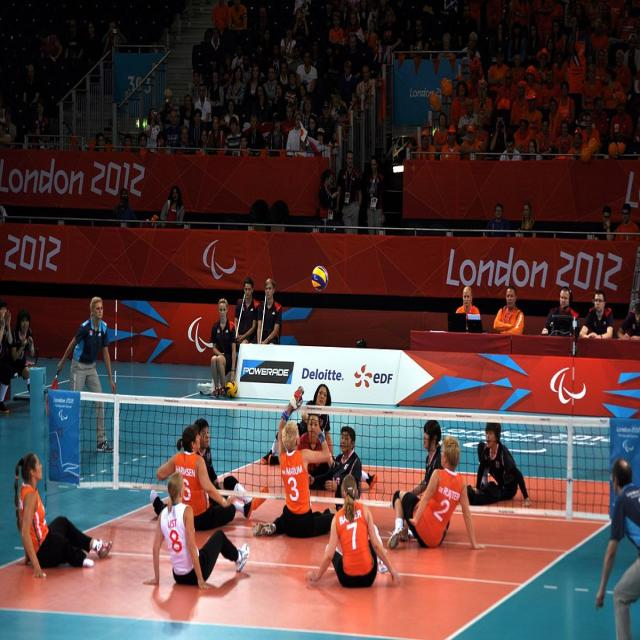body: (140, 470, 252, 592), (252, 385, 336, 541), (14, 450, 114, 580), (386, 433, 490, 551), (305, 473, 402, 590), (53, 295, 119, 455), (592, 455, 640, 639), (156, 425, 237, 530), (194, 418, 269, 520), (250, 0, 336, 77), (560, 0, 640, 73), (466, 422, 532, 509), (356, 0, 479, 45), (308, 425, 363, 515), (403, 418, 444, 529), (33, 15, 98, 62), (255, 275, 283, 380), (210, 297, 237, 399), (301, 382, 334, 457), (335, 148, 363, 234), (296, 412, 332, 475), (10, 308, 36, 394), (483, 0, 561, 28), (491, 65, 522, 135), (544, 284, 582, 336), (578, 288, 615, 340), (544, 12, 568, 91), (233, 276, 260, 345), (364, 154, 386, 235), (100, 19, 126, 87), (493, 284, 525, 336), (0, 298, 14, 415), (449, 80, 473, 147), (317, 168, 340, 234), (484, 20, 509, 76), (487, 46, 511, 104), (472, 78, 493, 144), (158, 88, 180, 150), (536, 67, 563, 117), (330, 102, 353, 160), (377, 7, 402, 60), (341, 32, 364, 86), (252, 82, 275, 136), (580, 62, 603, 115), (590, 96, 609, 160), (454, 285, 481, 330), (159, 184, 186, 229), (313, 99, 337, 148), (457, 97, 480, 147), (111, 187, 139, 228), (21, 61, 43, 113), (608, 100, 634, 144), (210, 0, 232, 52), (226, 0, 248, 51), (286, 110, 310, 156), (257, 27, 275, 88), (612, 202, 640, 241), (338, 58, 357, 115), (578, 111, 600, 160), (510, 80, 532, 128), (266, 111, 288, 158), (507, 20, 528, 69), (163, 109, 185, 155), (616, 299, 640, 341), (484, 202, 512, 238), (295, 51, 318, 94), (245, 112, 267, 156), (408, 17, 430, 60), (556, 78, 576, 124), (208, 68, 225, 122), (593, 204, 617, 242), (282, 69, 303, 112), (223, 115, 245, 156), (612, 49, 632, 94), (253, 82, 273, 126), (34, 100, 51, 151), (225, 65, 246, 105), (535, 114, 556, 154), (435, 32, 456, 72), (364, 18, 378, 78), (433, 111, 450, 160), (459, 122, 483, 156), (173, 124, 198, 156), (489, 114, 509, 154), (145, 106, 162, 153), (623, 33, 640, 80), (517, 200, 538, 238), (187, 68, 208, 106), (270, 80, 288, 124), (554, 119, 576, 154), (343, 10, 365, 45), (441, 124, 461, 161), (206, 116, 226, 152), (207, 27, 223, 72), (1, 106, 18, 148), (262, 66, 279, 108), (414, 128, 436, 160), (280, 25, 297, 66), (566, 126, 588, 157), (195, 83, 212, 123), (461, 31, 481, 65), (499, 134, 523, 162), (221, 97, 240, 132), (188, 107, 204, 148), (356, 64, 372, 105), (300, 96, 318, 132), (178, 93, 194, 133), (229, 43, 244, 85), (552, 51, 569, 88), (302, 112, 318, 151), (292, 6, 310, 40), (534, 47, 550, 85), (328, 11, 345, 46), (312, 126, 331, 157), (246, 63, 262, 99), (536, 34, 555, 64), (0, 102, 12, 149), (525, 21, 541, 55), (511, 52, 526, 86), (276, 60, 291, 93), (547, 96, 560, 134), (294, 80, 308, 115), (513, 117, 533, 140), (154, 129, 172, 154), (198, 128, 214, 156), (524, 64, 540, 92), (524, 137, 542, 161), (91, 132, 108, 152), (138, 131, 148, 148), (124, 133, 134, 147)
